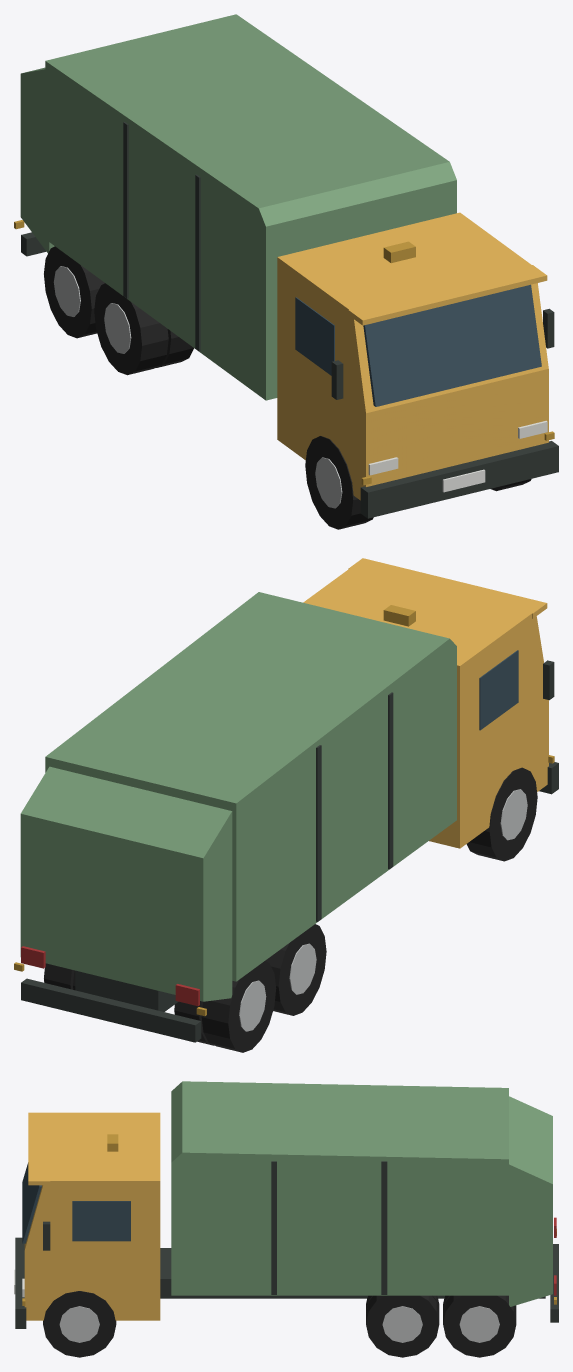
The model's file is garbage-truck.glb.
3 views of the same model, one above another, from view 1: azimuth 30°, elevation 25°; view 2: azimuth 150°, elevation 25°; view 3: azimuth 270°, elevation 25° (orthographic). The views are drawn at different scales.
Parts seen in each view (by area): view 1: body, cab, trim, glass, headlight; view 2: body, cab, trim, glass, brake_light; view 3: body, cab, trim, glass.
Part boxes in pixels (bbox=[...]): body: bbox=[20, 14, 456, 400]; cab: bbox=[277, 212, 554, 500]; trim: bbox=[21, 232, 558, 529]; glass: bbox=[295, 284, 541, 406]; headlight: bbox=[368, 420, 547, 475]; body: bbox=[20, 592, 456, 1001]; cab: bbox=[303, 558, 554, 848]; trim: bbox=[21, 762, 558, 1052]; glass: bbox=[479, 650, 518, 730]; brake_light: bbox=[21, 946, 199, 1006]; body: bbox=[171, 1081, 552, 1306]; cab: bbox=[24, 1112, 160, 1320]; trim: bbox=[14, 1237, 558, 1357]; glass: bbox=[22, 1162, 130, 1243].
Size of the model in its own units: 2.62 by 3.1 by 7.42.
